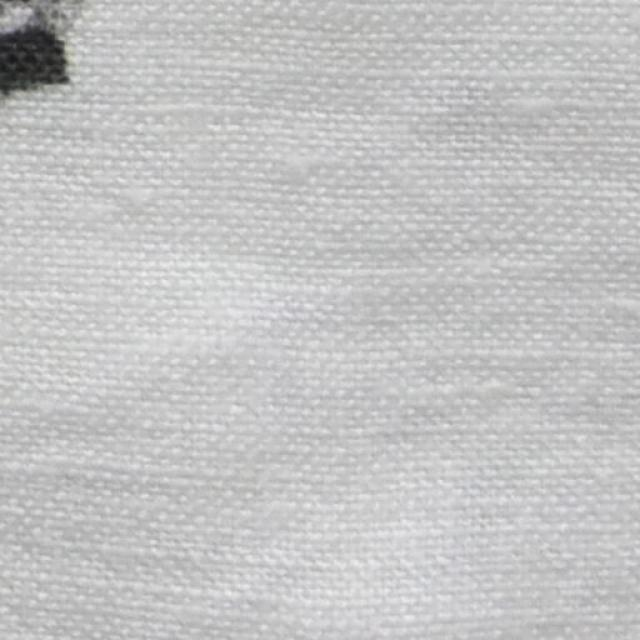Stain: (0, 2, 84, 93)
